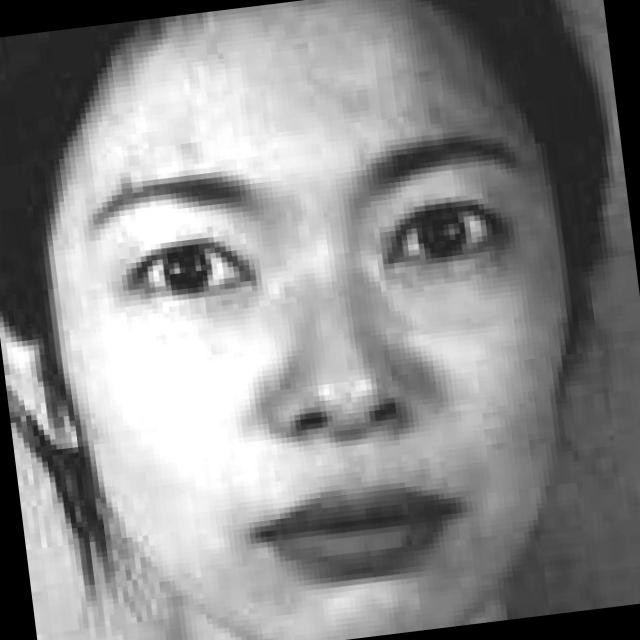fear: (68, 16, 595, 636)
